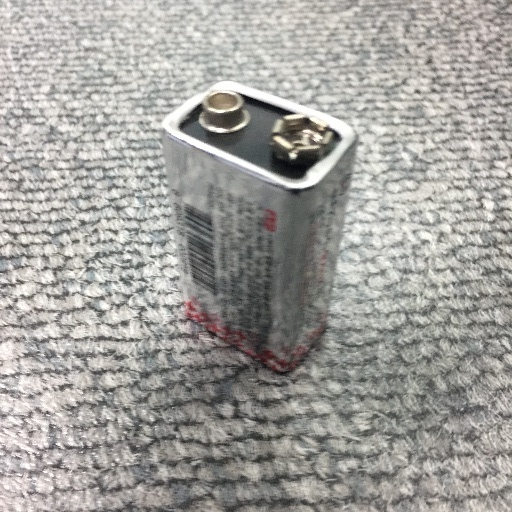Battery_3: (153, 70, 363, 389)
